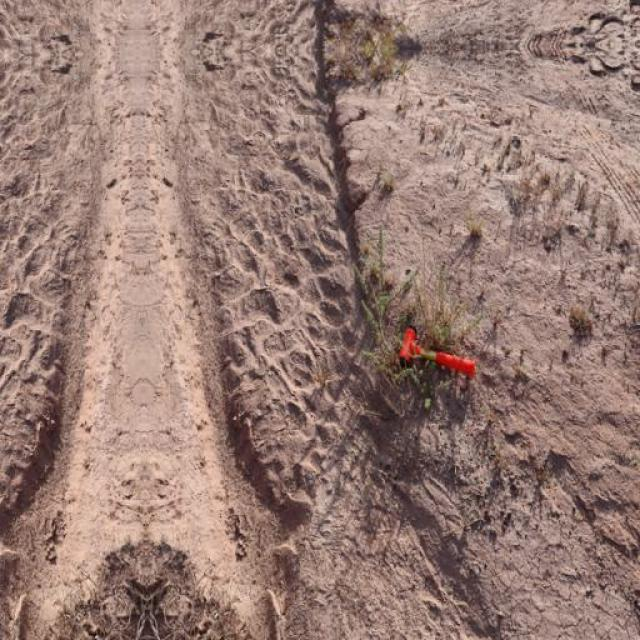mallet: (396, 324, 476, 378)
